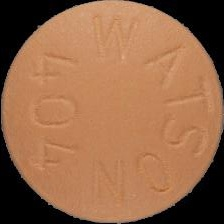68151-0692: (0, 0, 224, 224)
